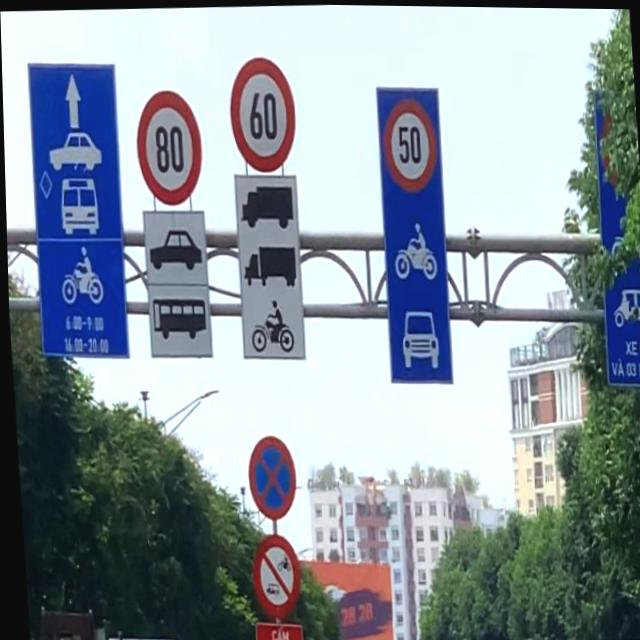Cam dung xe va do xe: (241, 431, 298, 521)
Toc do toi da cho phep: (131, 82, 210, 207), (224, 48, 302, 172), (376, 87, 439, 195)
